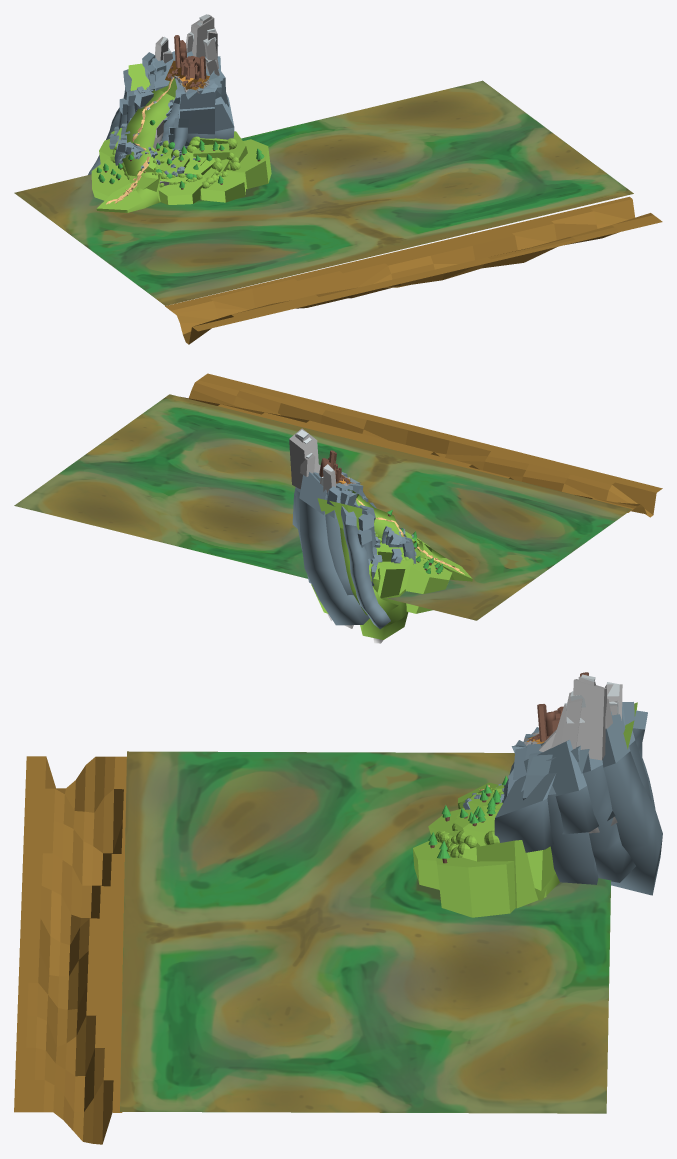
The model's file is Terreno_UR.glb.
The picture shows the model from 3 angles, top to bottom: view 1: azimuth 30°, elevation 25°; view 2: azimuth 150°, elevation 25°; view 3: azimuth 270°, elevation 25°; orthographic projection. The views are drawn at different scales.
Parts seen in each view (by area): view 1: Plano.001, model, Plano; view 2: Plano.001, model, Plano; view 3: Plano.001, Plano, model.
Part boxes in pixels (x1,y1,x2,y2): Plano.001: (14,80,633,305); model: (88,14,271,212); Plano: (165,196,662,344); Plano.001: (14,394,631,620); model: (289,428,472,643); Plano: (180,373,662,517); Plano.001: (120,751,611,1113); Plano: (14,756,126,1144); model: (413,672,662,917).
Size of the model in its own units: 25.94 by 11.71 by 19.65.
11 materials, 1 textured.
